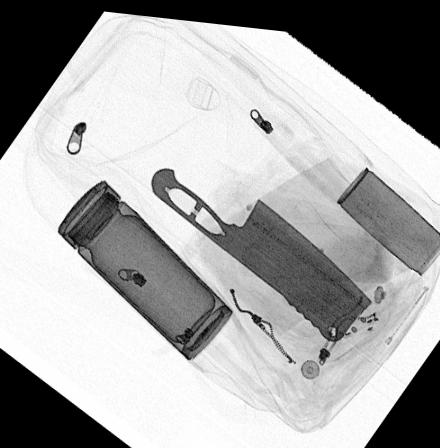Knife: (150, 163, 372, 334)
